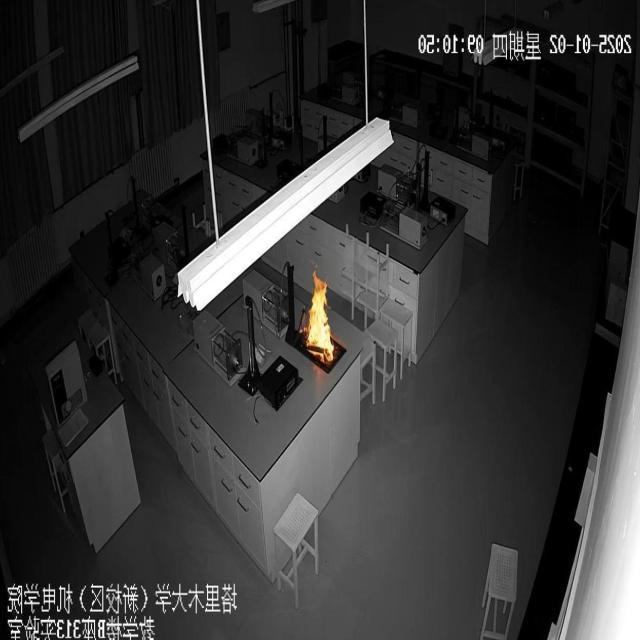smoke: (299, 264, 340, 366)
